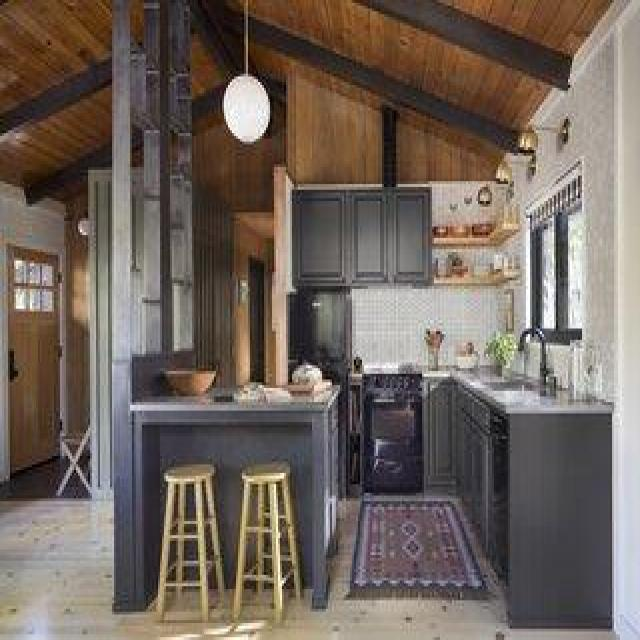dishwasher: (484, 384, 536, 630), (352, 358, 432, 508)
